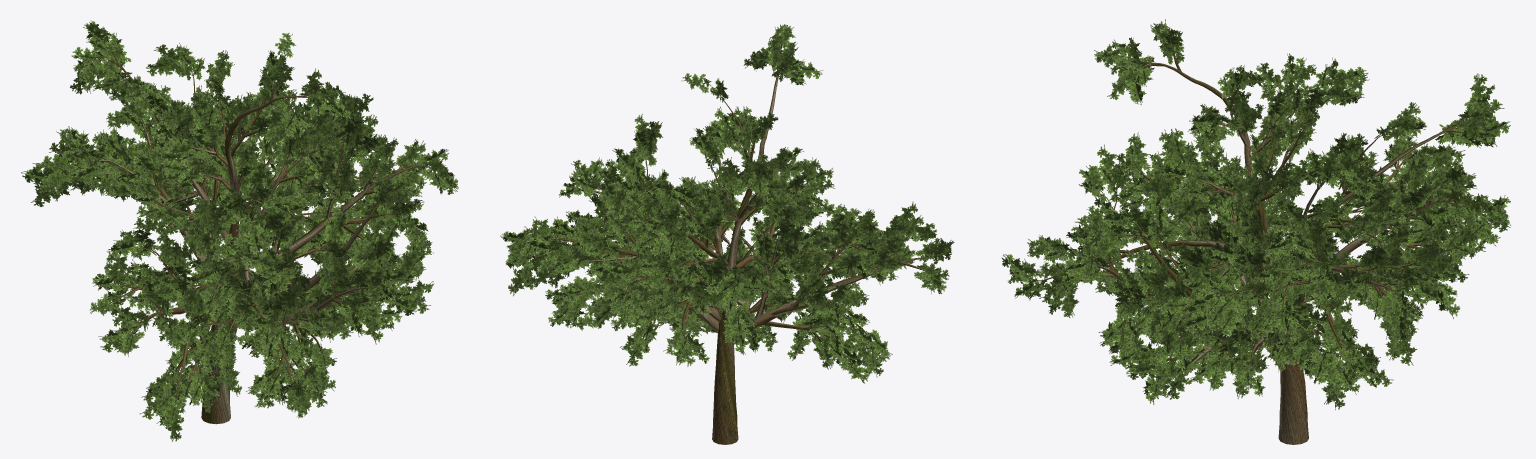
Rendered from oakBig.glb.
The picture shows the model from 3 angles, left to right: view 1: azimuth 30°, elevation 25°; view 2: azimuth 150°, elevation 25°; view 3: azimuth 270°, elevation 25°; orthographic projection. The views are drawn at different scales.
Visible parts, largest first — view 1: oakBig; view 2: oakBig; view 3: oakBig.
Boxes of the visible parts, x1,y1,x2,y2 form: oakBig: (21, 20, 458, 441); oakBig: (500, 24, 954, 444); oakBig: (1001, 19, 1510, 444).
Size of the model in its own units: 12.5 by 12 by 13.66.
2 materials, 2 textured.
